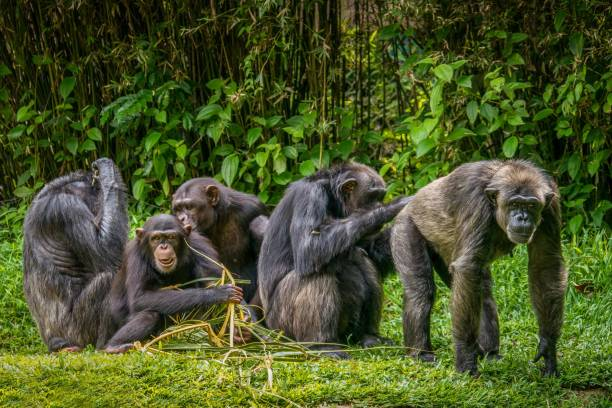chimpanzee: (495, 156, 561, 266), (128, 206, 199, 296)
